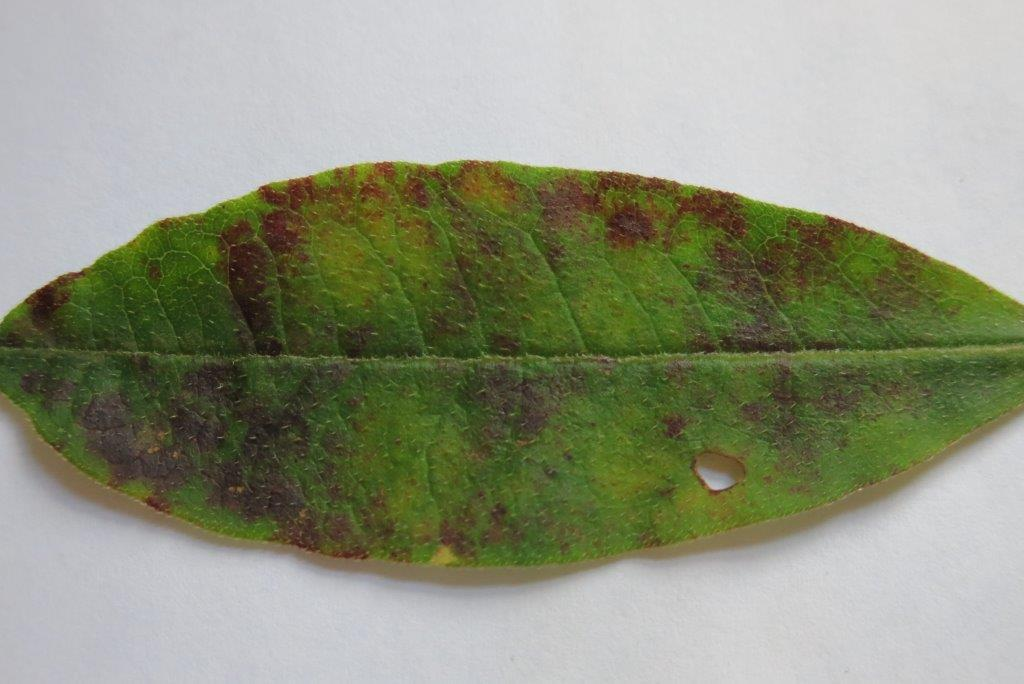late_blight: (402, 162, 1023, 359), (81, 361, 325, 544), (217, 179, 340, 359), (466, 364, 575, 444)
